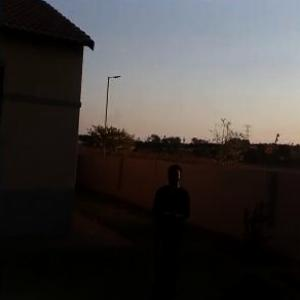follow: (146, 157, 194, 299)
